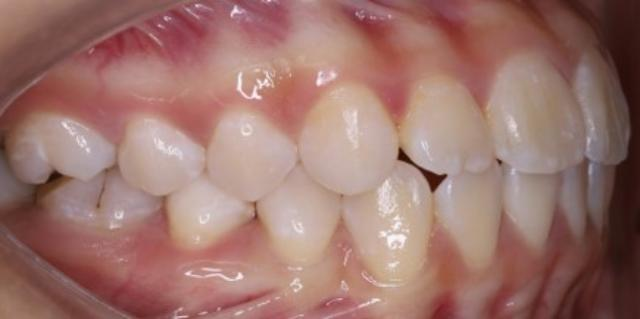canine class II 1/4: (253, 74, 439, 288)
molar class III 1/2: (1, 109, 162, 238)
